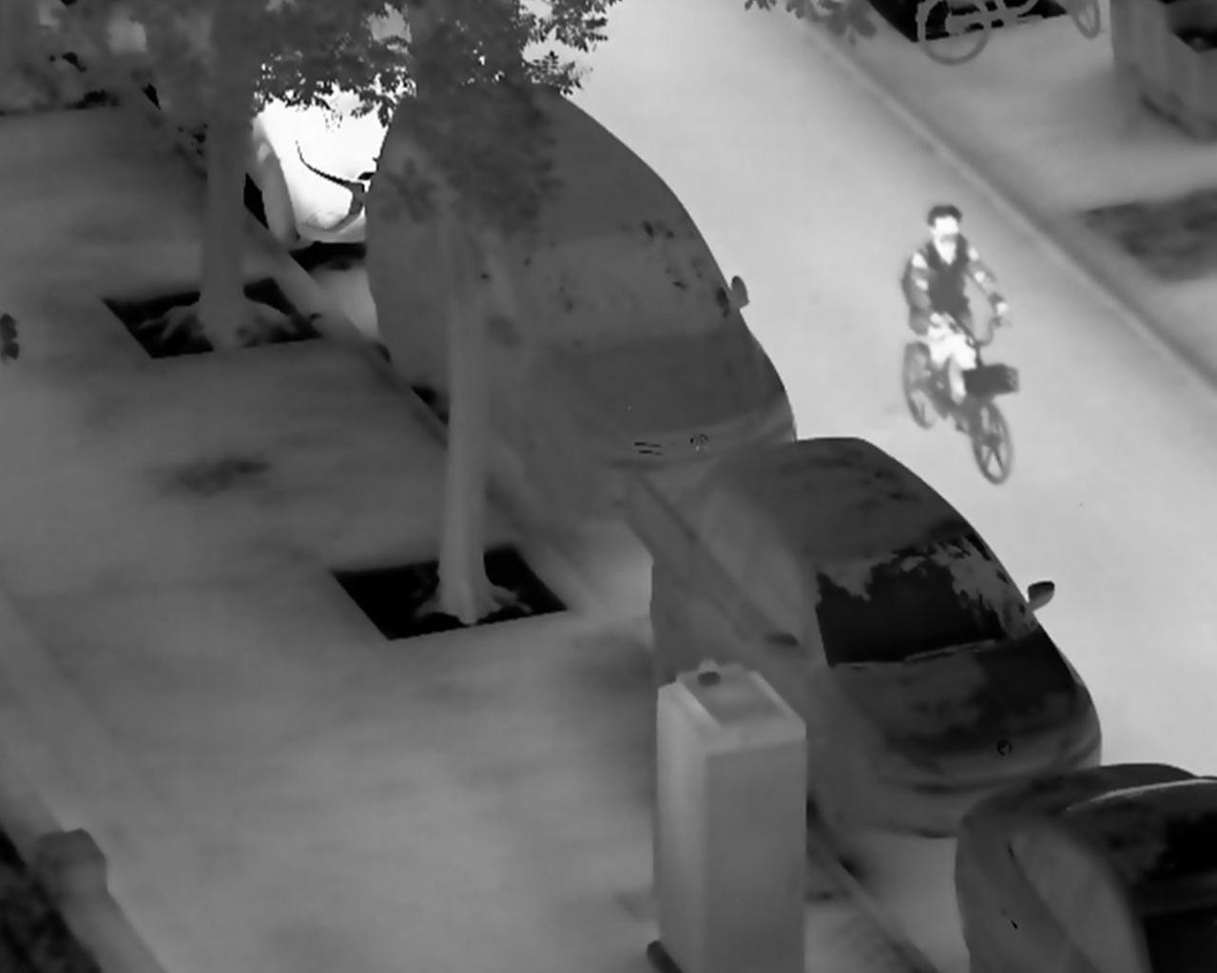person: (898, 204, 1012, 414)
